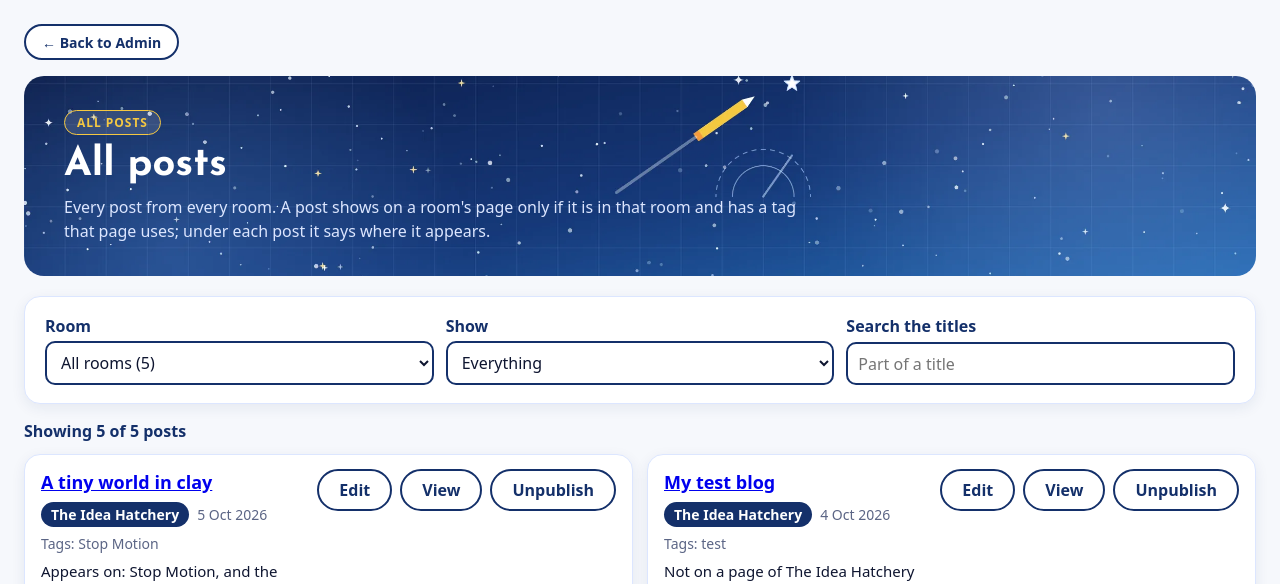
Test: the filters › searches the titles, ignoring capitals, and says so when nothing matches
Expected: the link "My test blog" is shown, [664,470,775,494]
Type "SUNRISE" into the search field labelled "Search the titles" at (1041, 364), box [846,342,1235,385]
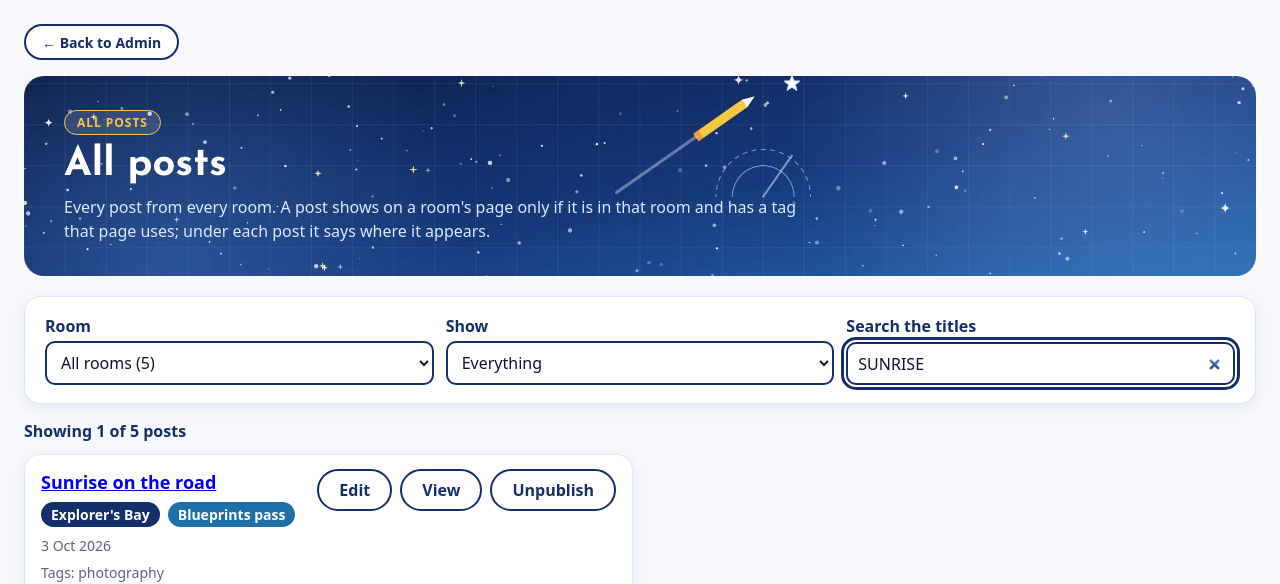
Now the message reads "Showing 1 of 5 posts", box [24,420,186,442]
Replace the text in the search field labelled "Search the titles" with "zzz" at (1041, 364), box [846,342,1235,385]
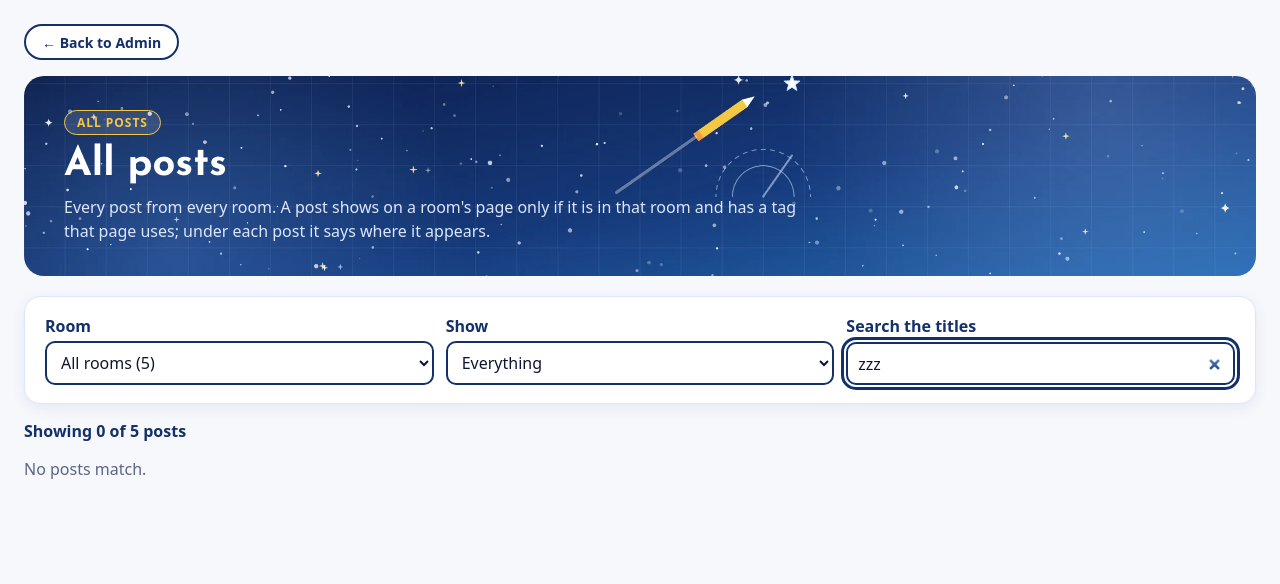
Now the text "No posts match." is shown, box [24,458,146,480]
